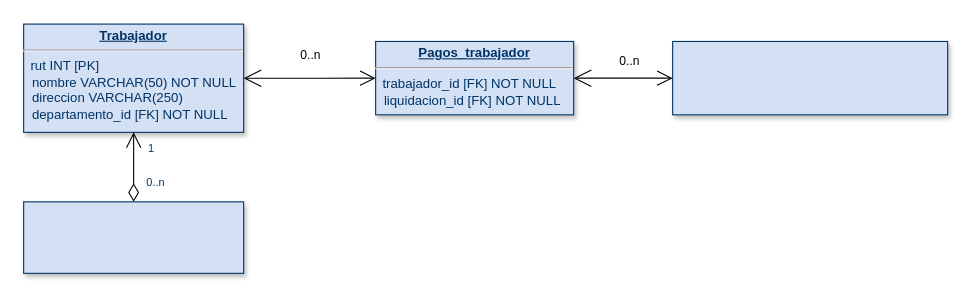
Some shapes in this 974 by 300 pixel diagram are drawn without their labels. Here are the shapes that lost their labels. From the top down, the centre of each, then its label:
At pixel 810 79: "Liquidaciones id SERIAL [PK] nombre_archivo VARCHAR(50) NOT NULL".
At pixel 134 238: "Departamentos id SERIAL [PK] nombre VARCHAR(20) NOT NULL".
